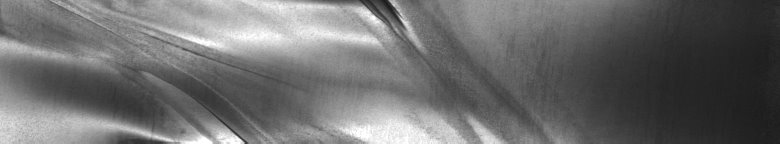ke: (36, 33, 240, 136)
